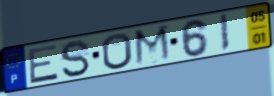6: (180, 18, 211, 58)
E: (26, 43, 60, 86)
I: (218, 13, 231, 54)
M: (133, 23, 174, 68)
O: (100, 32, 135, 72)
S: (58, 39, 92, 79)
